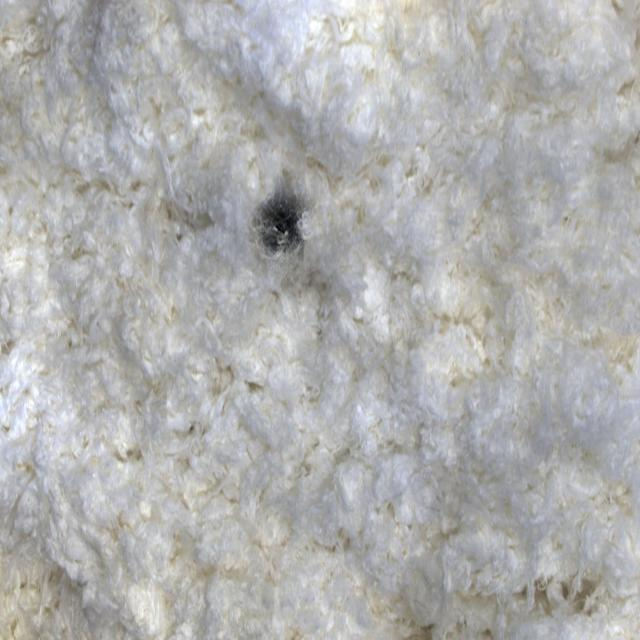dust: (235, 143, 338, 306)
